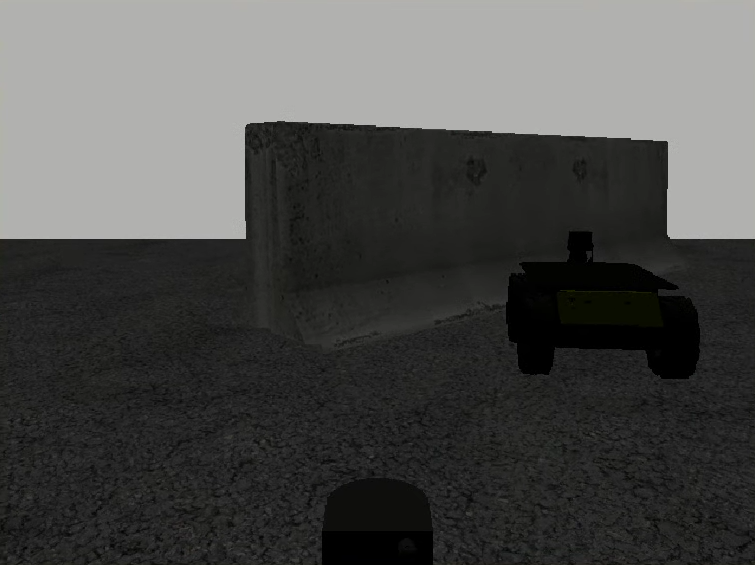husky: (506, 261, 699, 377)
